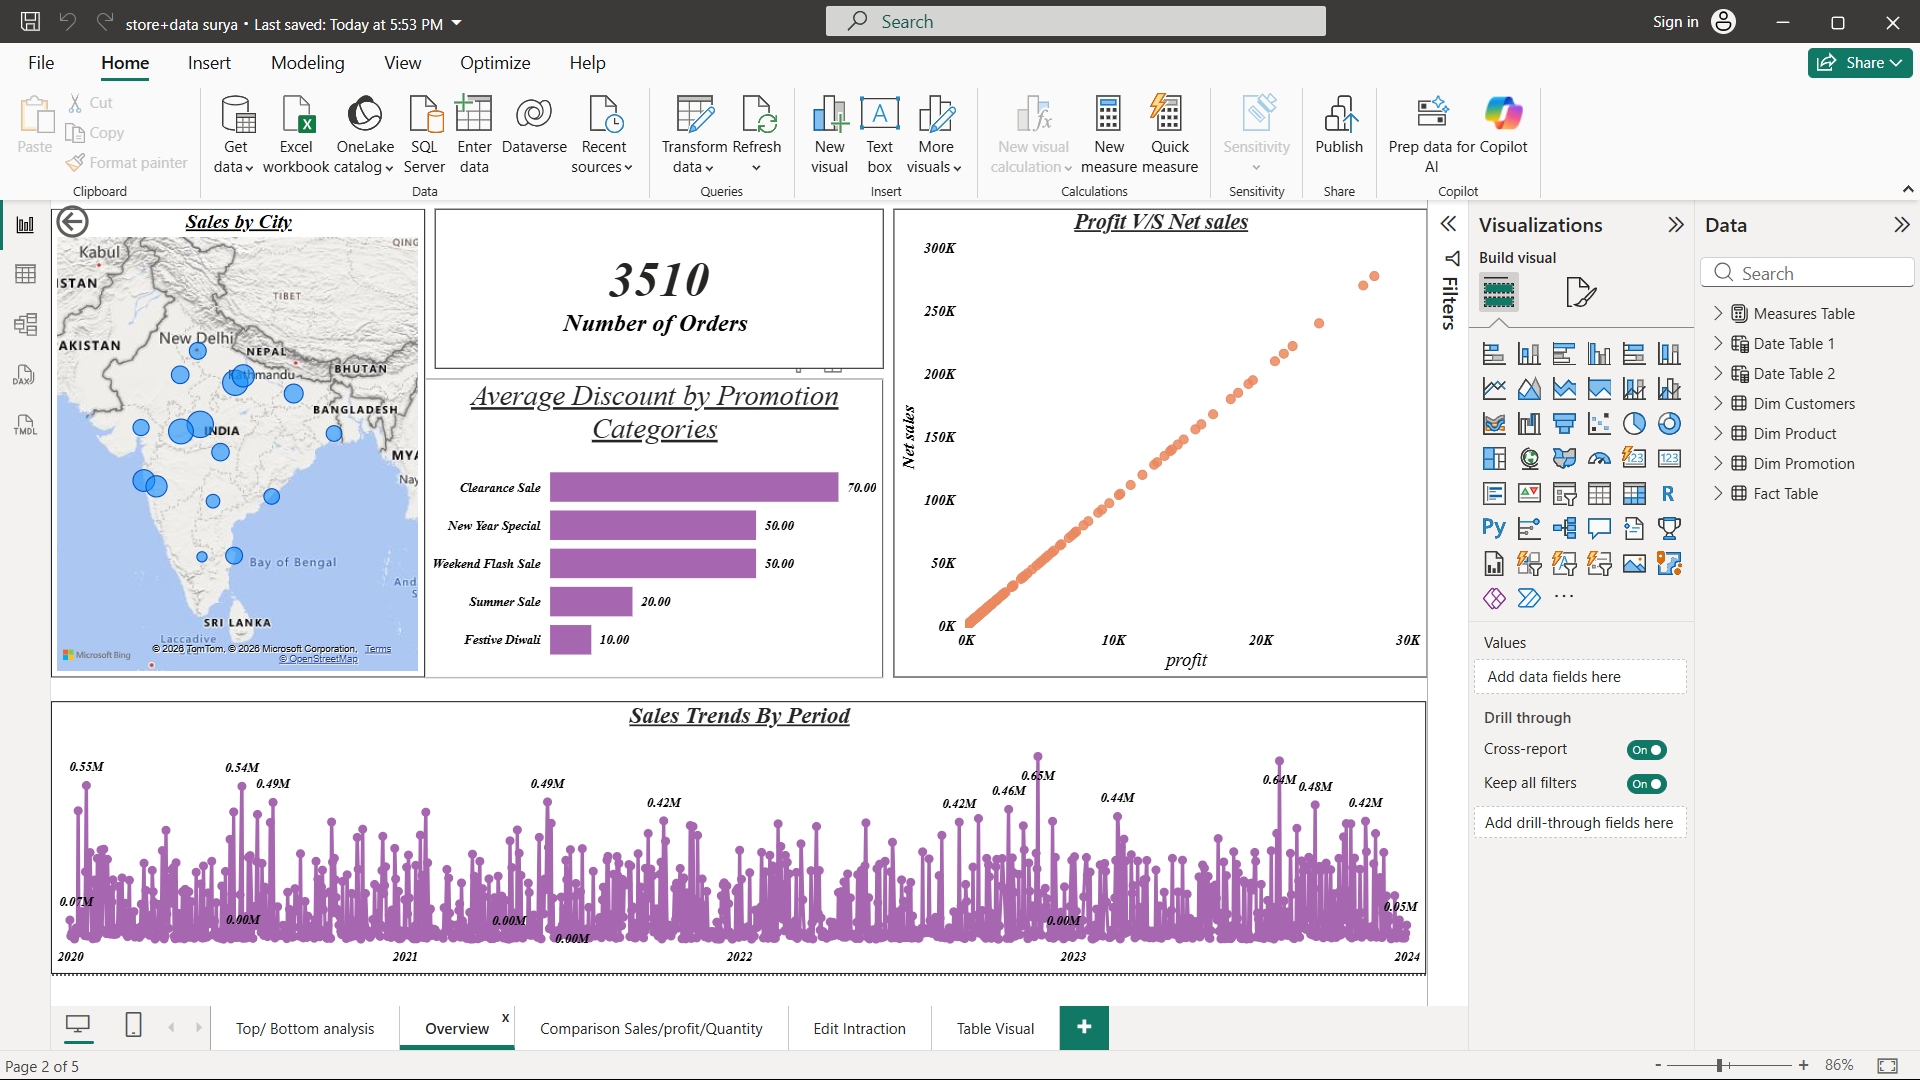

The page's visual inventory and layout, read from the dashboard file:
{"tool":"powerbi","page":{"name":"Overview","canvas":[1280,720],"ordinal":1},"visuals":[{"type":"lineChart","title":"Sales Trends By Period","fields":{"Category":["Fact Table.Date (dd/mm/yyyy).Variation.Date Hierarchy.Year"],"Y":["Sum(Fact Table.Net sales)"]},"box":[0,466.7,1279.5,253.8],"z":0},{"type":"scatterChart","title":"Profit V/S Net sales","fields":{"X":["Fact Table.profit"],"Y":["Fact Table.Net sales"]},"box":[783.7,8.1,496.5,436],"z":1000},{"type":"barChart","title":"Average Discount by Promotion Categories","fields":{"Category":["Dim Promotion.Promotion Name"],"Y":["Avg(Fact Table.Discount percentage)"]},"box":[348.2,166.2,426.3,278.1],"z":2000},{"type":"map","title":"Sales by City","fields":{"Category":["Dim Customers.City"],"Size":["Sum(Fact Table.Net sales)"]},"box":[0,8.5,347.8,436],"z":3000},{"type":"card","fields":{"Values":["Count(Fact Table.Order ID)"]},"box":[357,8.1,417.4,148.8],"z":4000},{"type":"actionButton","box":[0,0,100,40],"z":4001}]}

Visuals, with their boxes on the page's 1280x720 design canvas (x1, y1, x2, y2). These are canvas units, not pixel positions in the 1920x1080 screenshot, which may show the page scaled, cropped or inside an application window:
"Sales Trends By Period" lineChart: BBox(0, 467, 1280, 720)
"Profit V/S Net sales" scatterChart: BBox(784, 8, 1280, 444)
"Average Discount by Promotion Categories" barChart: BBox(348, 166, 774, 444)
"Sales by City" map: BBox(0, 8, 348, 444)
card - Count(Fact Table.Order ID): BBox(357, 8, 774, 157)
actionButton: BBox(0, 0, 100, 40)
